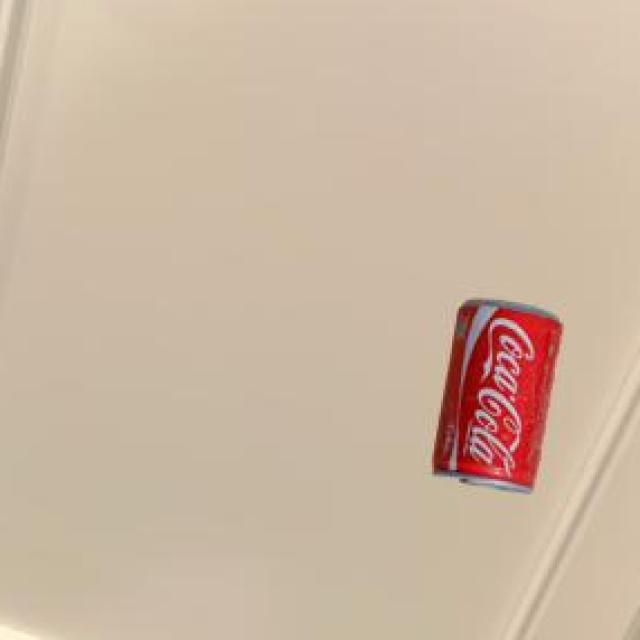logam: (429, 297, 558, 489)
